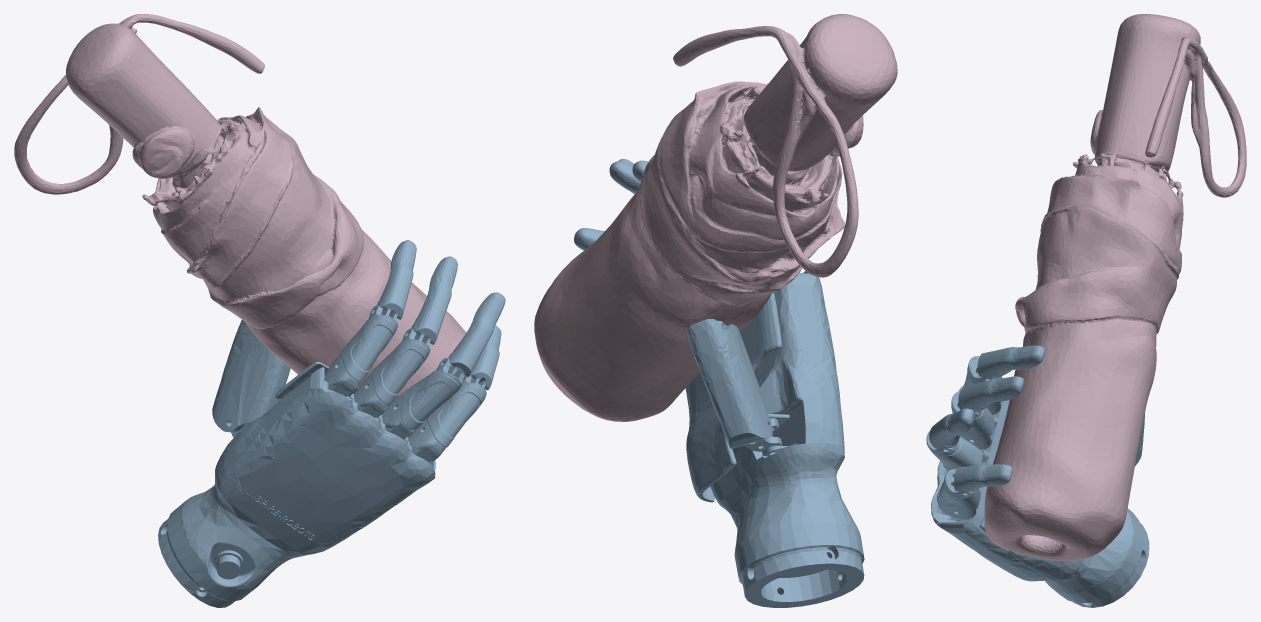
3 renders of one model, left to right at view 1: azimuth 30°, elevation 25°; view 2: azimuth 150°, elevation 25°; view 3: azimuth 270°, elevation 25°, orthographic. The views are drawn at different scales.
Visible parts, largest first — view 1: world, obj_mesh_grasp_15.obj; view 2: obj_mesh_grasp_15.obj, world; view 3: obj_mesh_grasp_15.obj, world.
Part boxes in pixels (x1,y1,x2,y2): world: (158,240,505,607); obj_mesh_grasp_15.obj: (14,14,466,400); obj_mesh_grasp_15.obj: (534,14,897,421); world: (574,159,864,607); obj_mesh_grasp_15.obj: (984,14,1246,561); world: (926,345,1149,607).
Bounding box in the file's own units: 0.2081 × 0.3034 × 0.1593.
